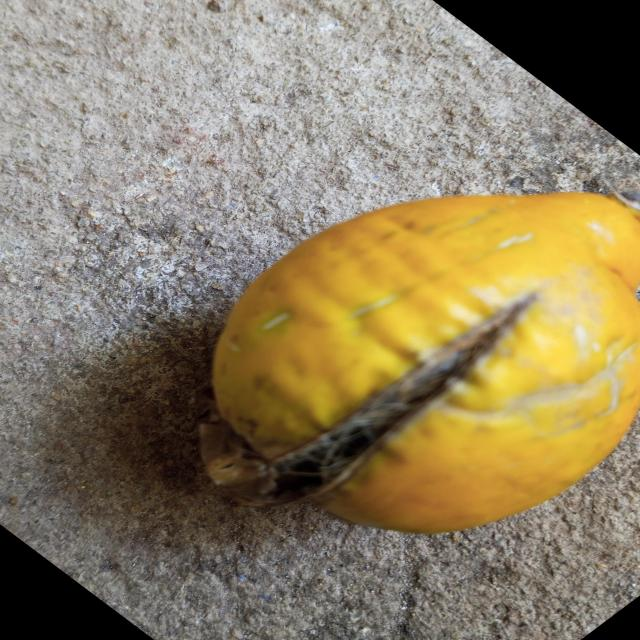damaged: (206, 192, 640, 537)
